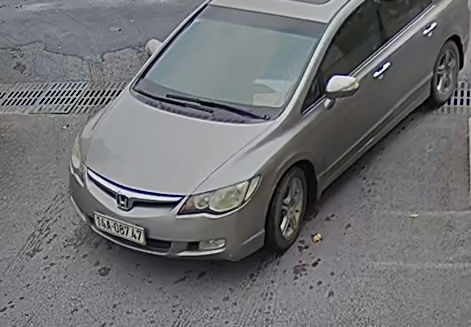vehicle plate: (88, 205, 146, 244)
